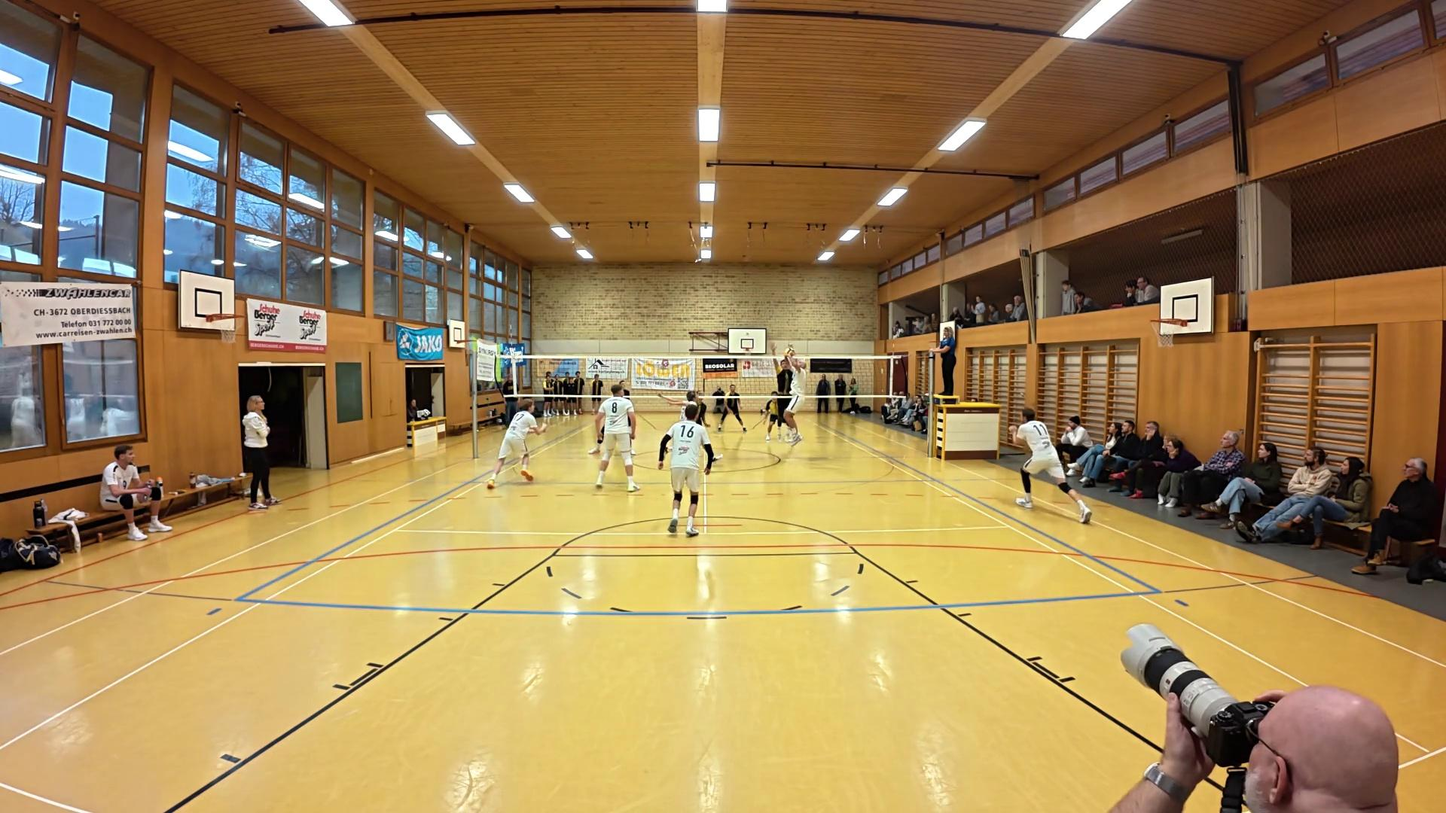alzata: (782, 350, 808, 447)
